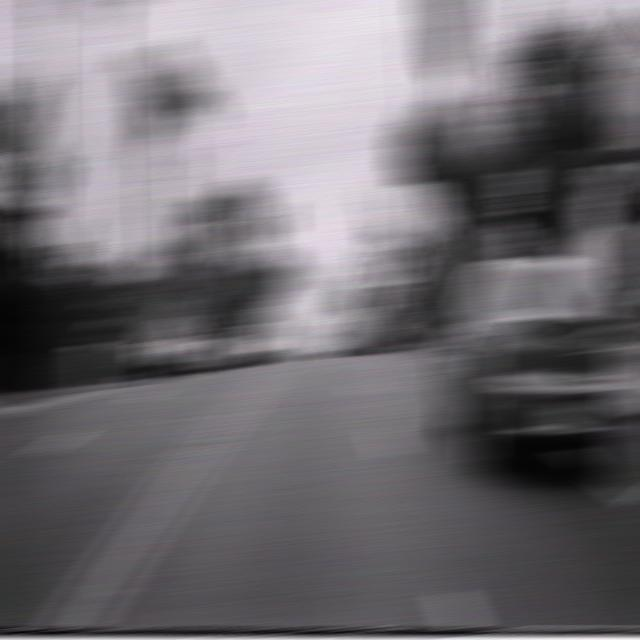speedLimit35: (497, 169, 534, 214)
